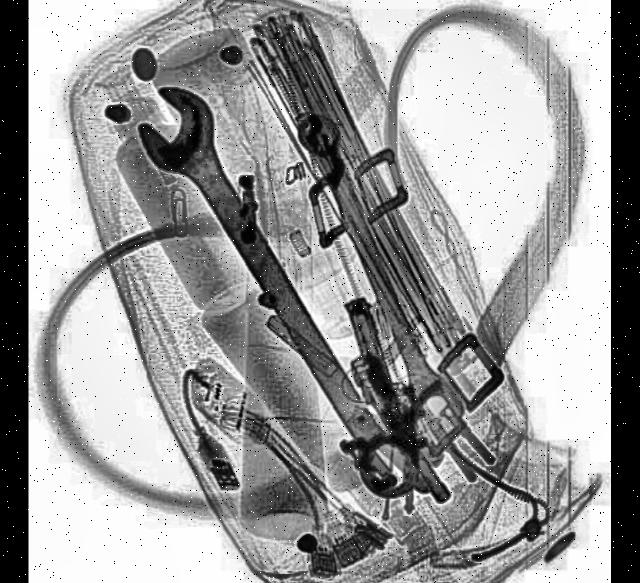Gun: (316, 292, 478, 508)
Wrench: (123, 65, 432, 524), (280, 102, 468, 447)
